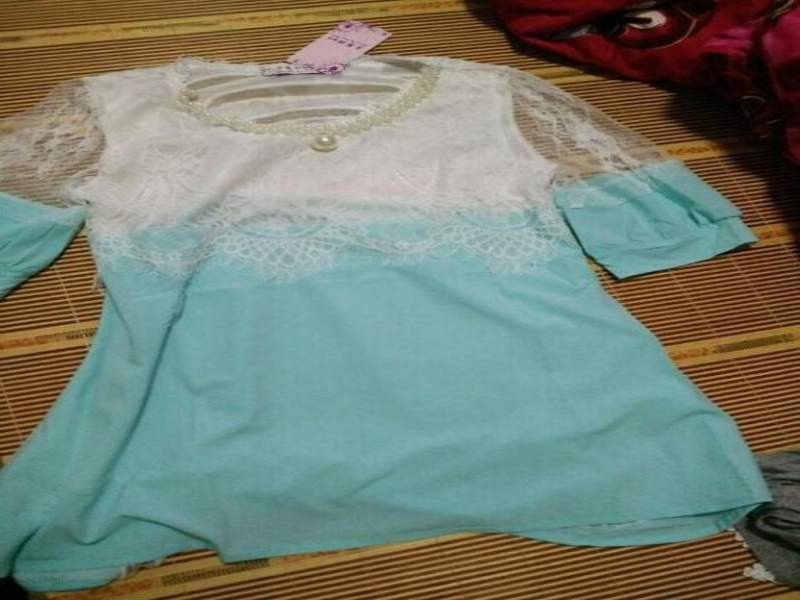short_sleeved_dress: (0, 54, 779, 598)
